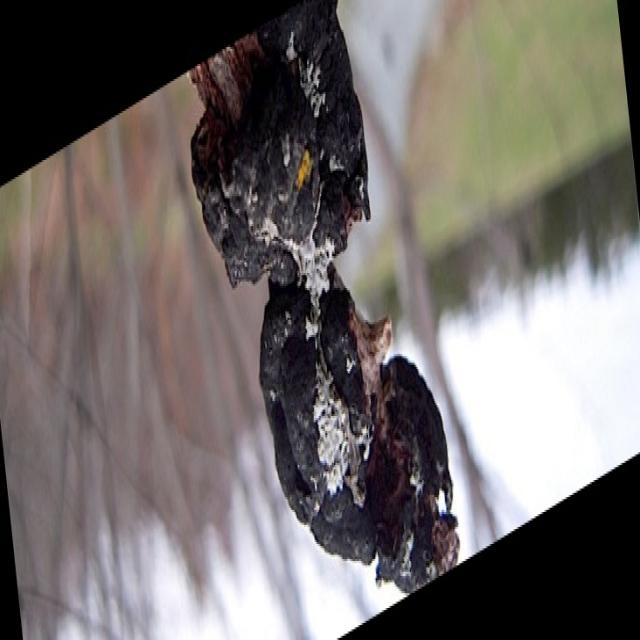Black_knot: (188, 0, 460, 595)
